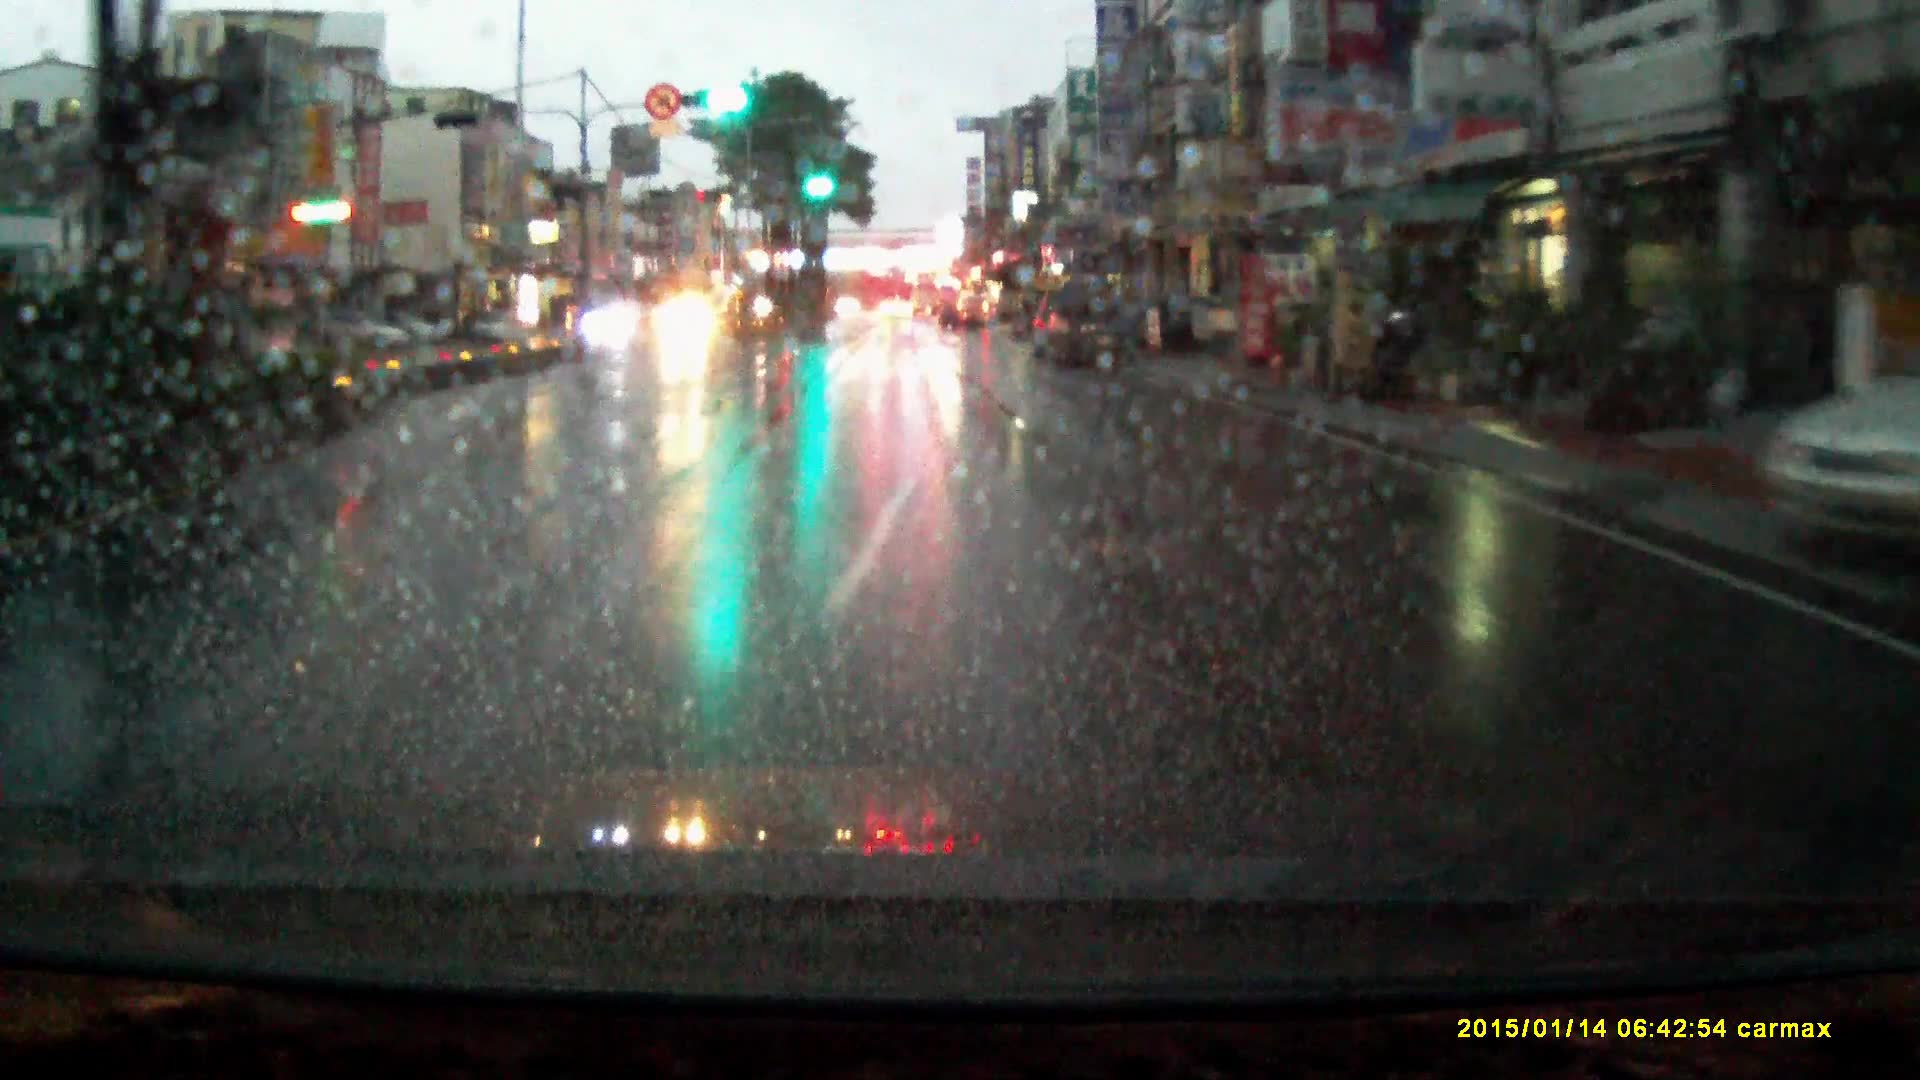vehicle: (1042, 284, 1135, 375), (655, 299, 725, 349), (331, 316, 409, 357), (580, 303, 644, 352), (1187, 309, 1242, 351), (939, 295, 992, 338), (473, 313, 531, 348), (910, 276, 943, 319), (880, 303, 914, 324)
